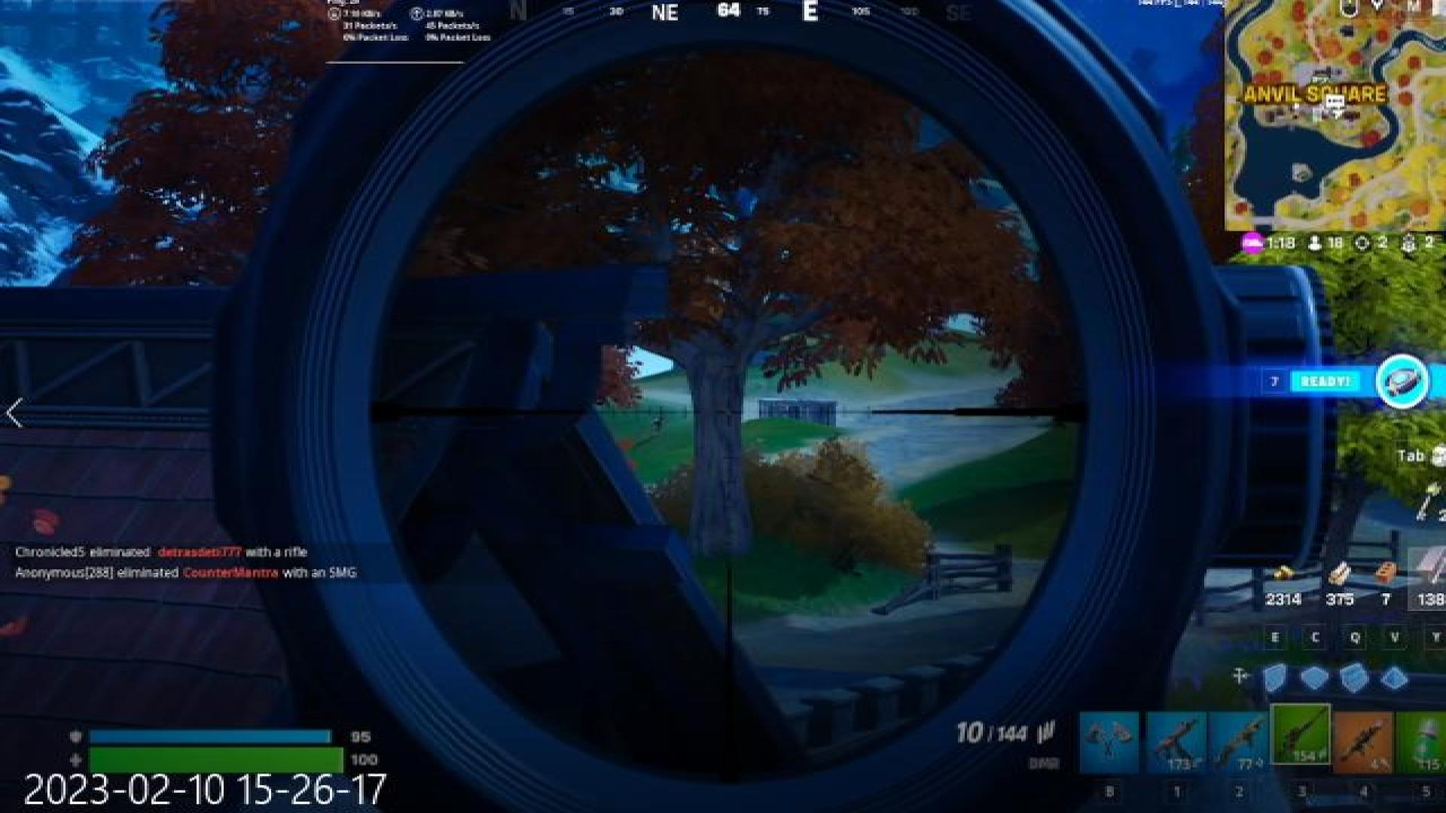player: (645, 408, 670, 438)
